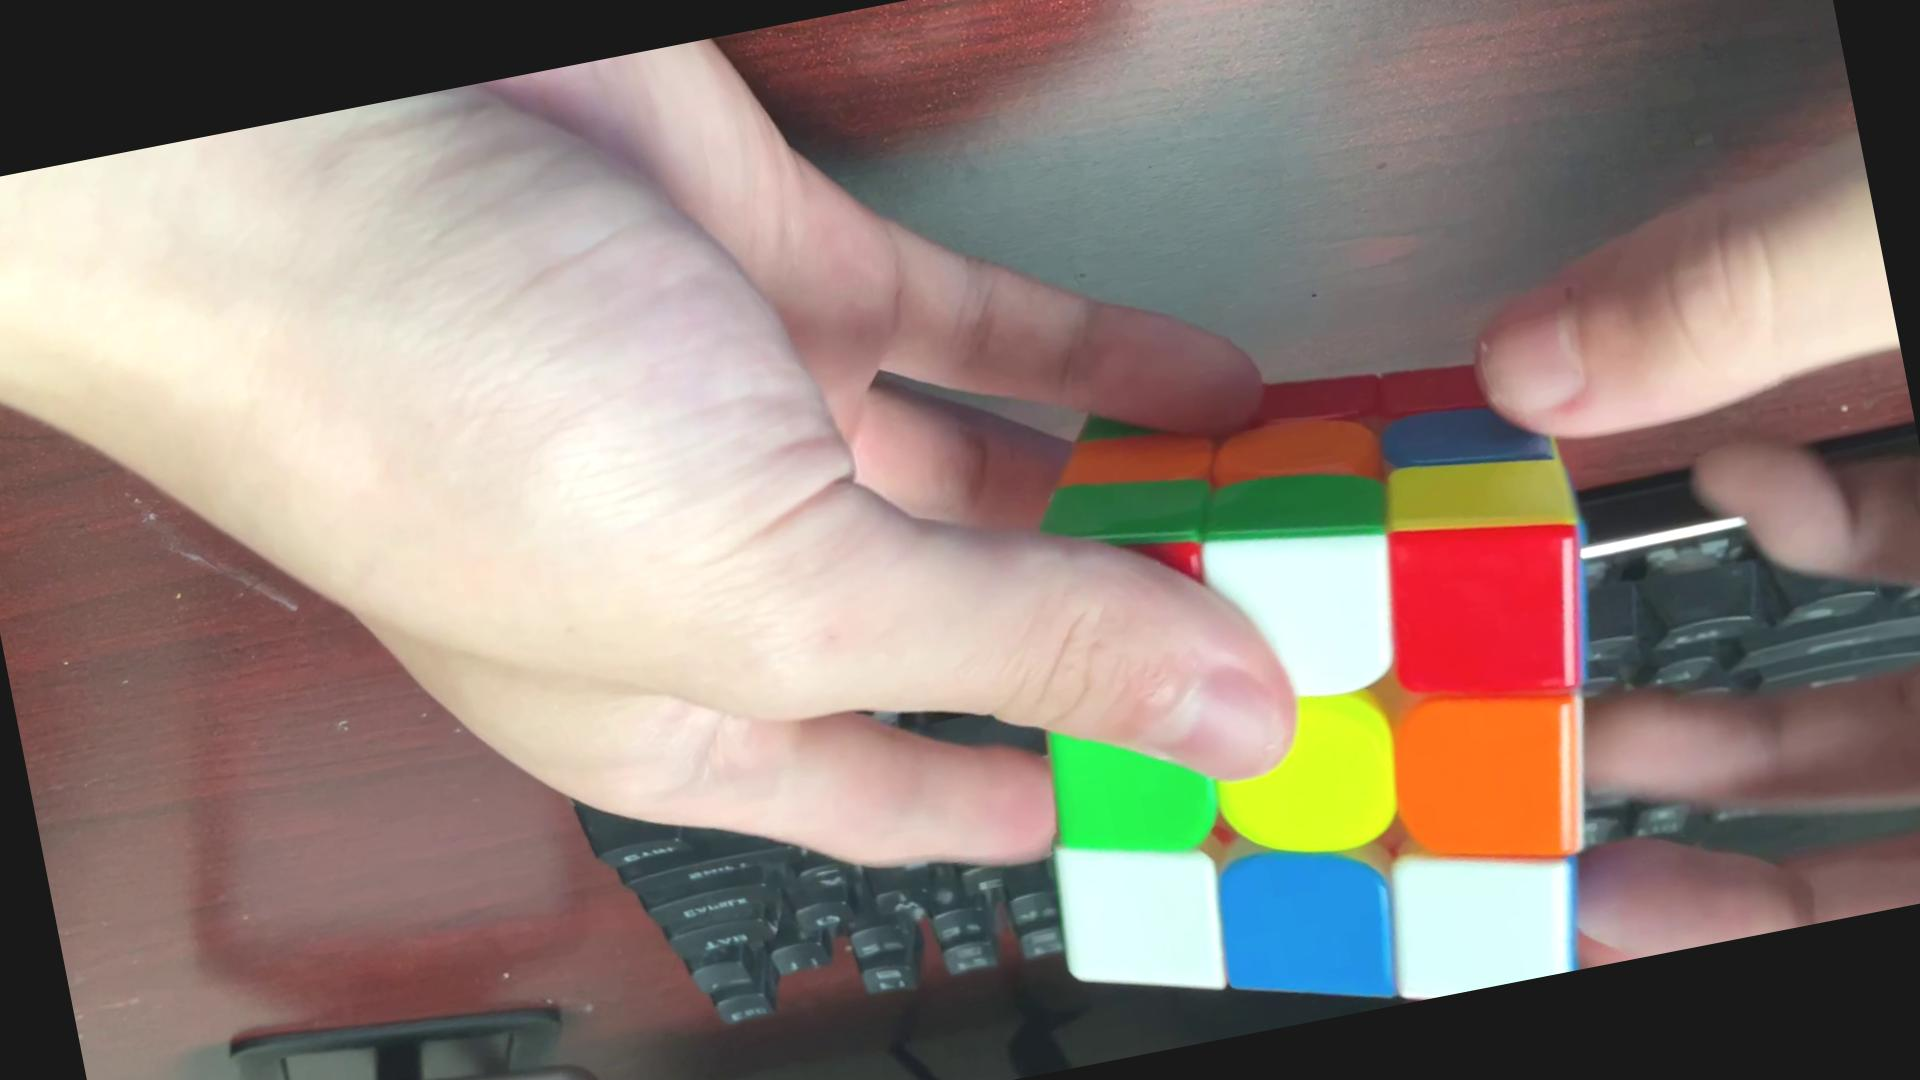Rubiks-Cube: (957, 306, 1676, 1062)
